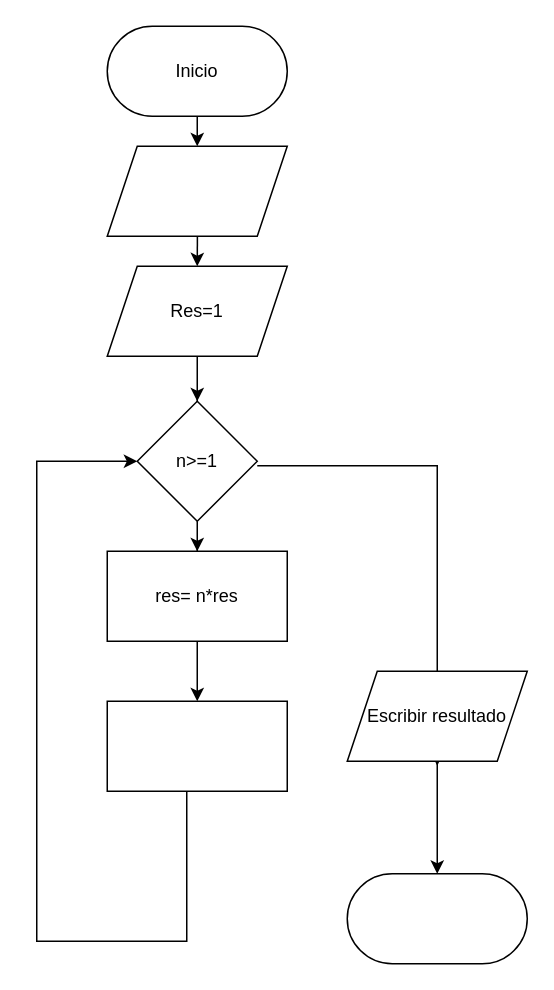
The diagram is 554 pixels wide and 990 high, and some of its shapes have lost their labels. The shapes that lost their labels are listed below. From the top down, each one's centre as x and y in pixels, then its label:
At pixel 196 190: "Leer n".
At pixel 196 745: "n=n-1".
At pixel 436 918: "Fin".
